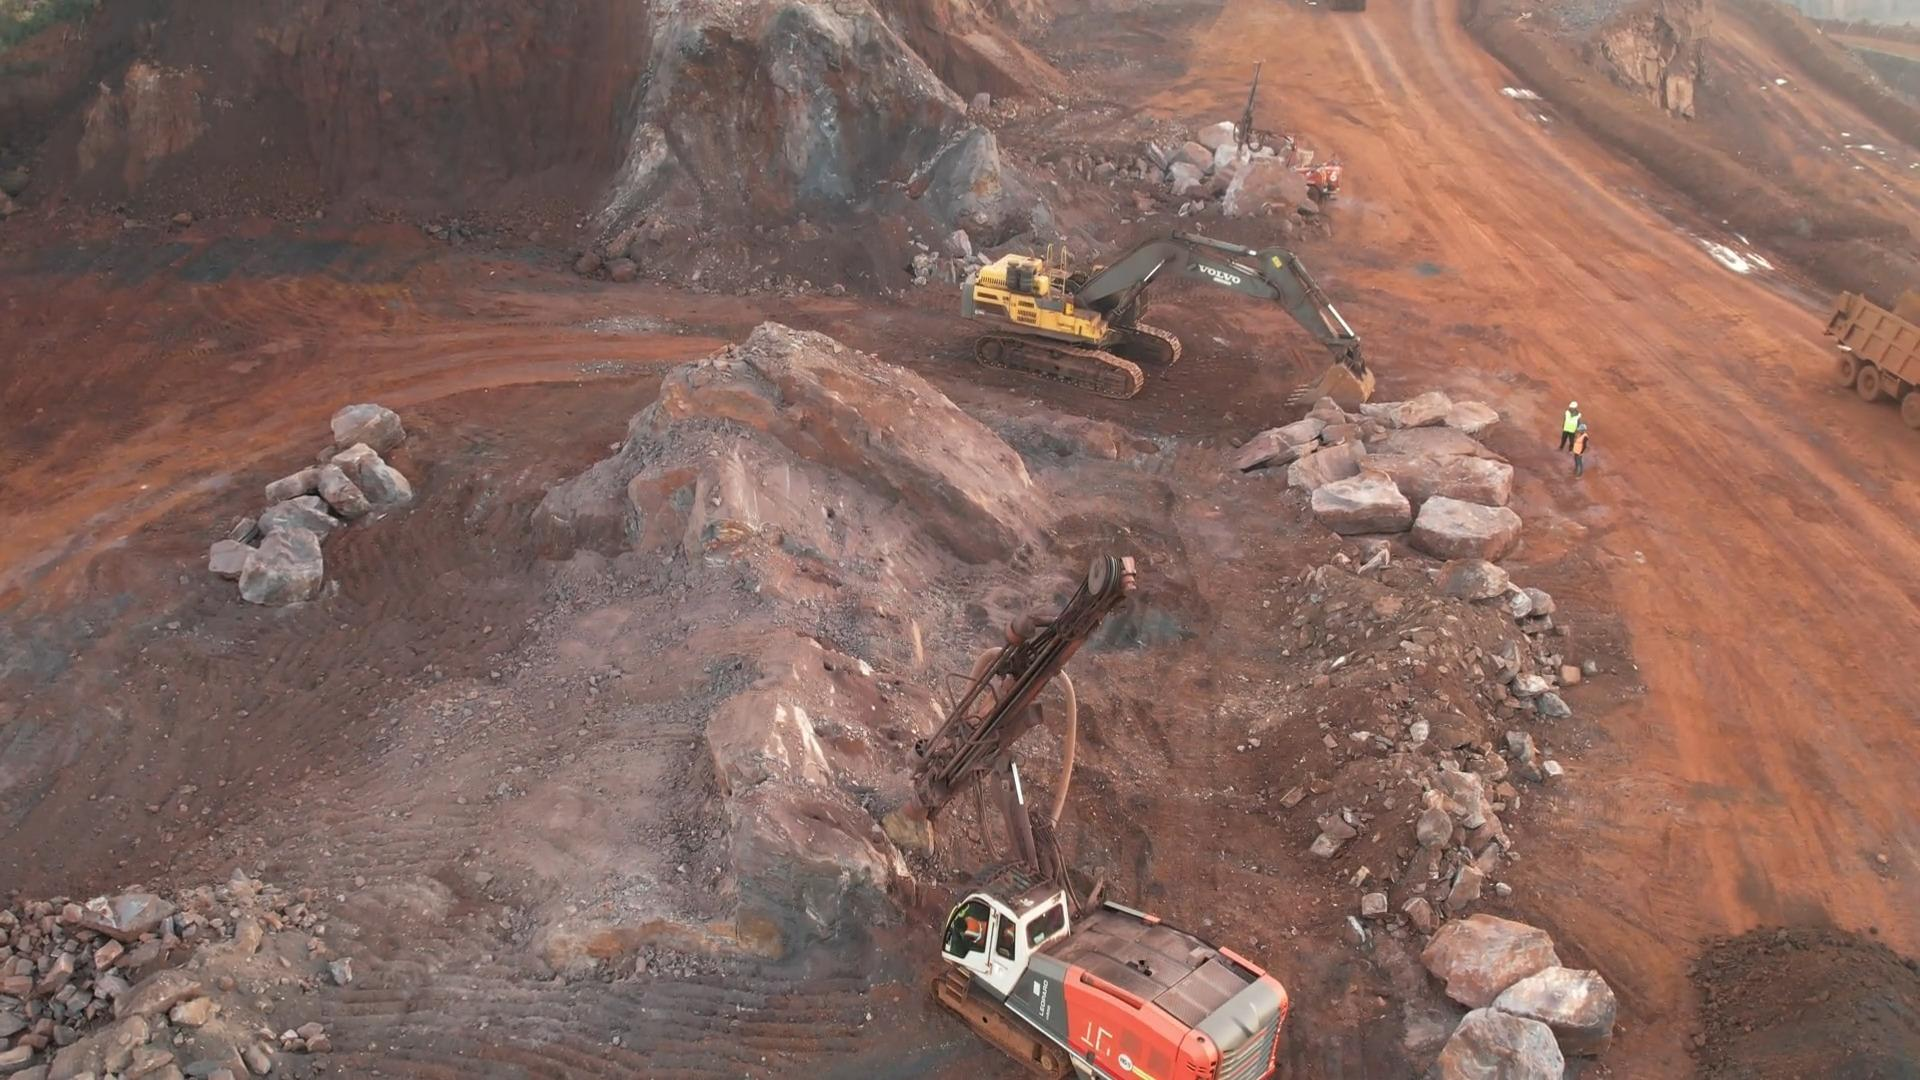excavator: (972, 237, 1353, 381)
